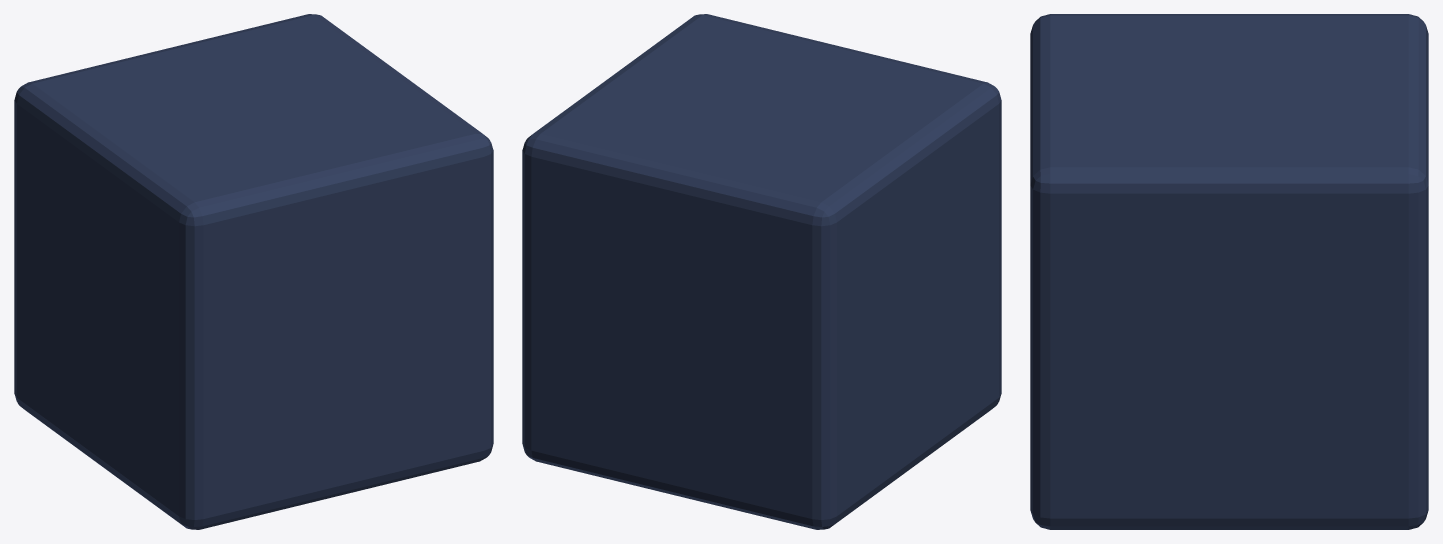
File: Terrain3.fbx
3 views of the same model, side by side, from view 1: azimuth 30°, elevation 25°; view 2: azimuth 150°, elevation 25°; view 3: azimuth 270°, elevation 25° (orthographic). The views are drawn at different scales.
Parts seen in each view (by area): view 1: Cube; view 2: Cube; view 3: Cube.
Part boxes in pixels (left/top/right/bottom): Cube: left=14, top=14, right=493, bottom=529; Cube: left=522, top=14, right=1001, bottom=529; Cube: left=1030, top=14, right=1428, bottom=529.
Bounding box in the file's own units: 200 × 200 × 200.
1 material, 1 textured.
